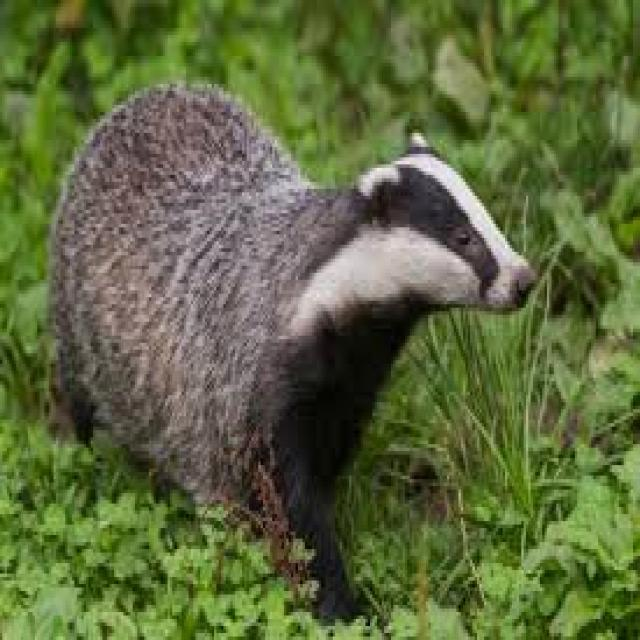badger: (49, 84, 533, 612)
